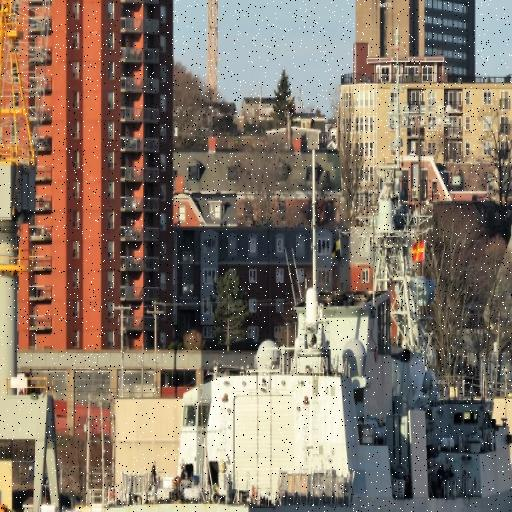Fragata: (99, 10, 512, 512)
